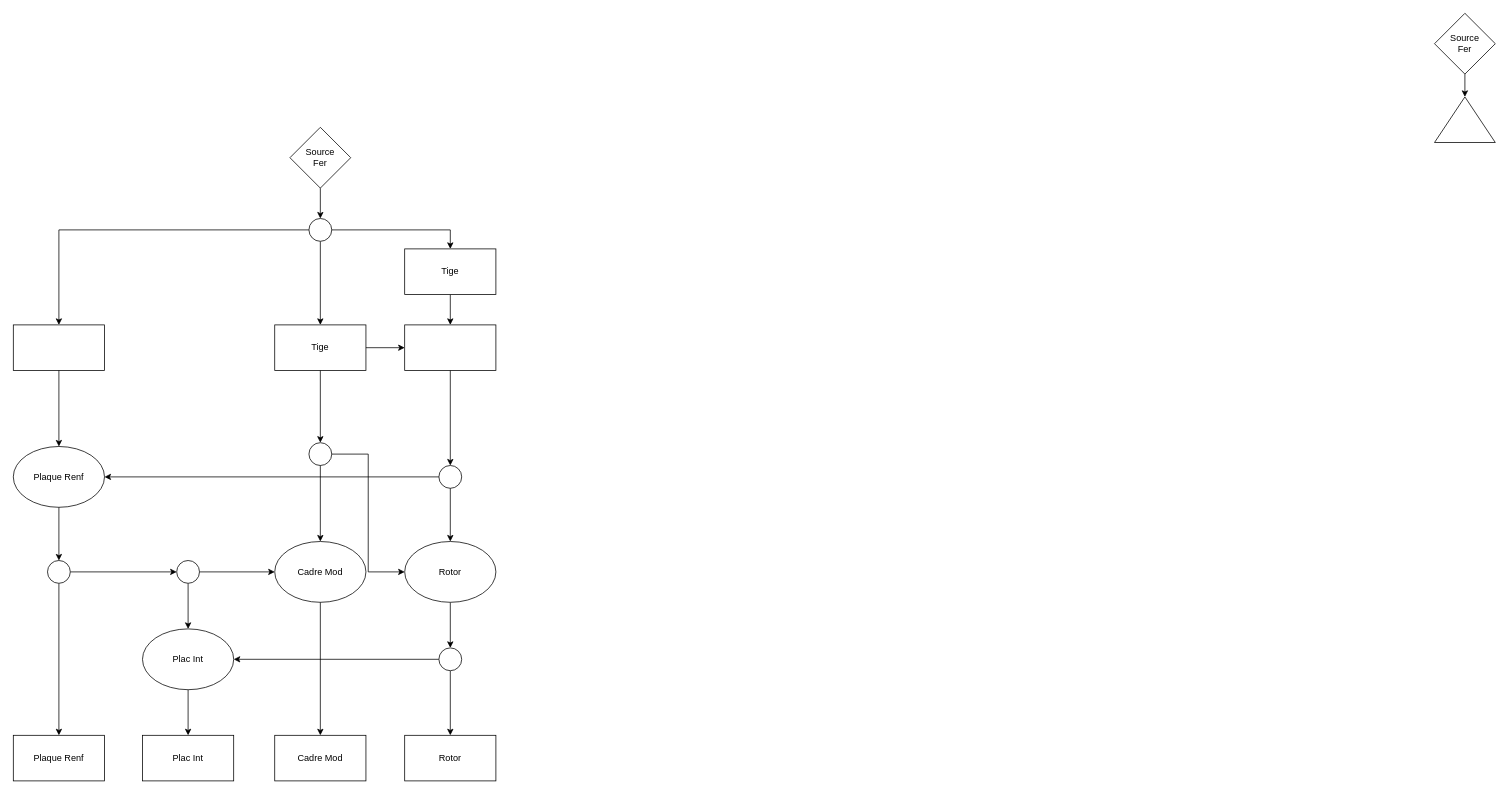
Some shapes in this 1509 by 794 pixel diagram are drawn without their labels. The shapes that lost their labels are listed below. From the top down, each one's box as (x1, y1, x2, y2) in pixels, then its label:
(1434, 96, 1495, 142): Fonderie
(13, 324, 104, 370): Plaque
(404, 324, 496, 370): Vis
